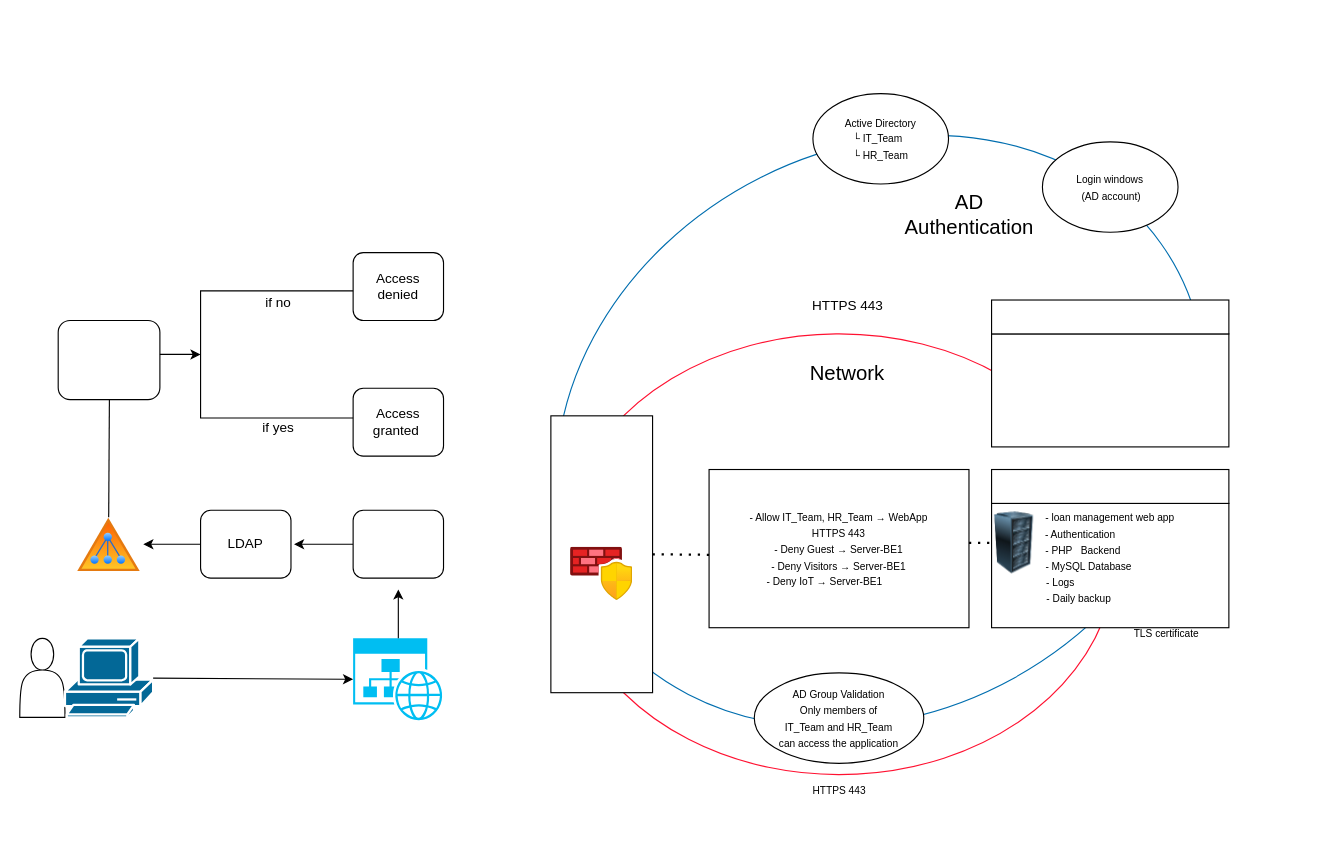
The diagram is 1333 pixels wide and 864 high, and some of its shapes have lost their labels. Here are the shapes that lost their labels. From the top down, the box of each, then its label:
(990, 299, 1229, 334): Zone trust-LAN
(57, 319, 160, 400): AD Authentication and Group Validation
(990, 333, 1229, 447): - IT workstations - HR
(990, 468, 1229, 503): Zone Server-BE1
(352, 509, 444, 578): PHP
